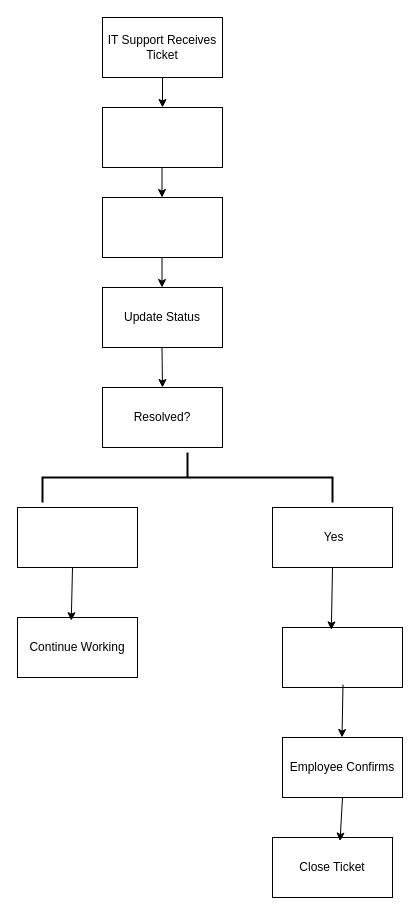
The diagram is 420 pixels wide and 915 high, and some of its shapes have lost their labels. The shapes that lost their labels are listed below. From the top down, each one's centre as x and y in pixels, then its label:
At point (162, 137): "Accept Ticket".
At point (162, 227): "Investigate Issue".
At point (77, 537): "No".
At point (342, 657): "Notify Employee".
